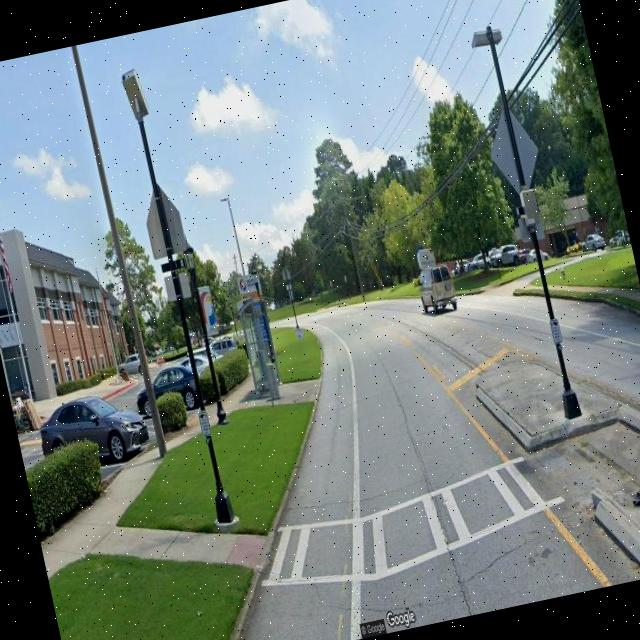shelter: (234, 292, 290, 402)
trash_can: (264, 362, 281, 399)
